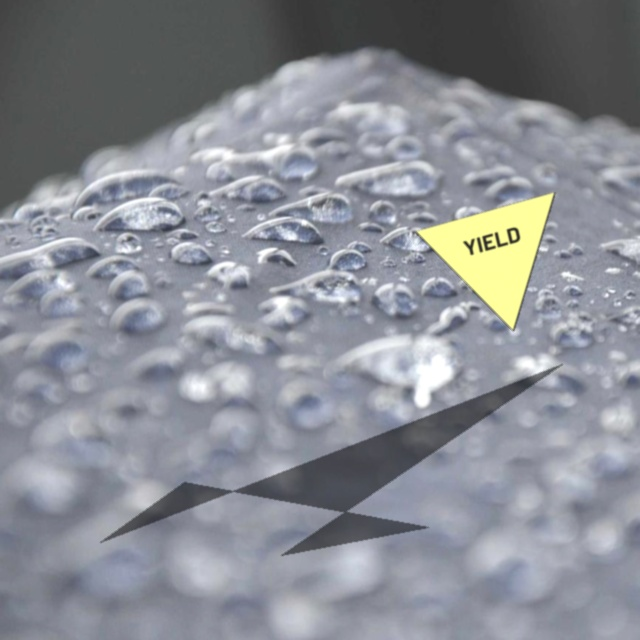YIELD: (414, 191, 556, 332)
